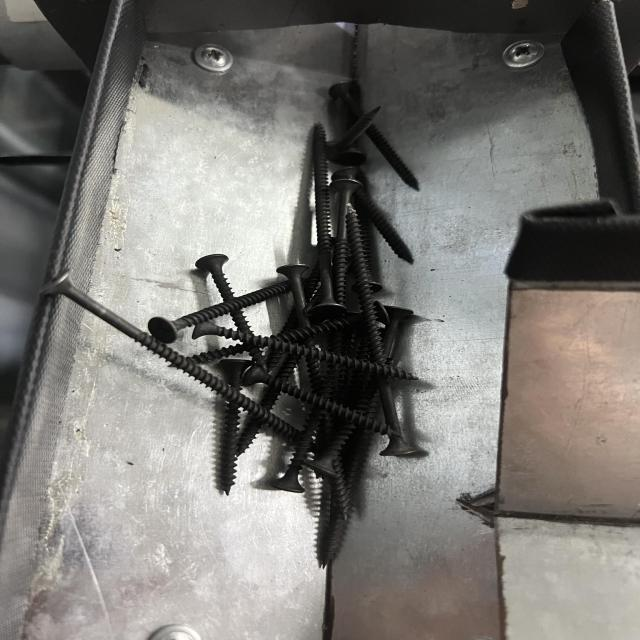screw: (45, 271, 317, 447), (342, 204, 422, 465)
